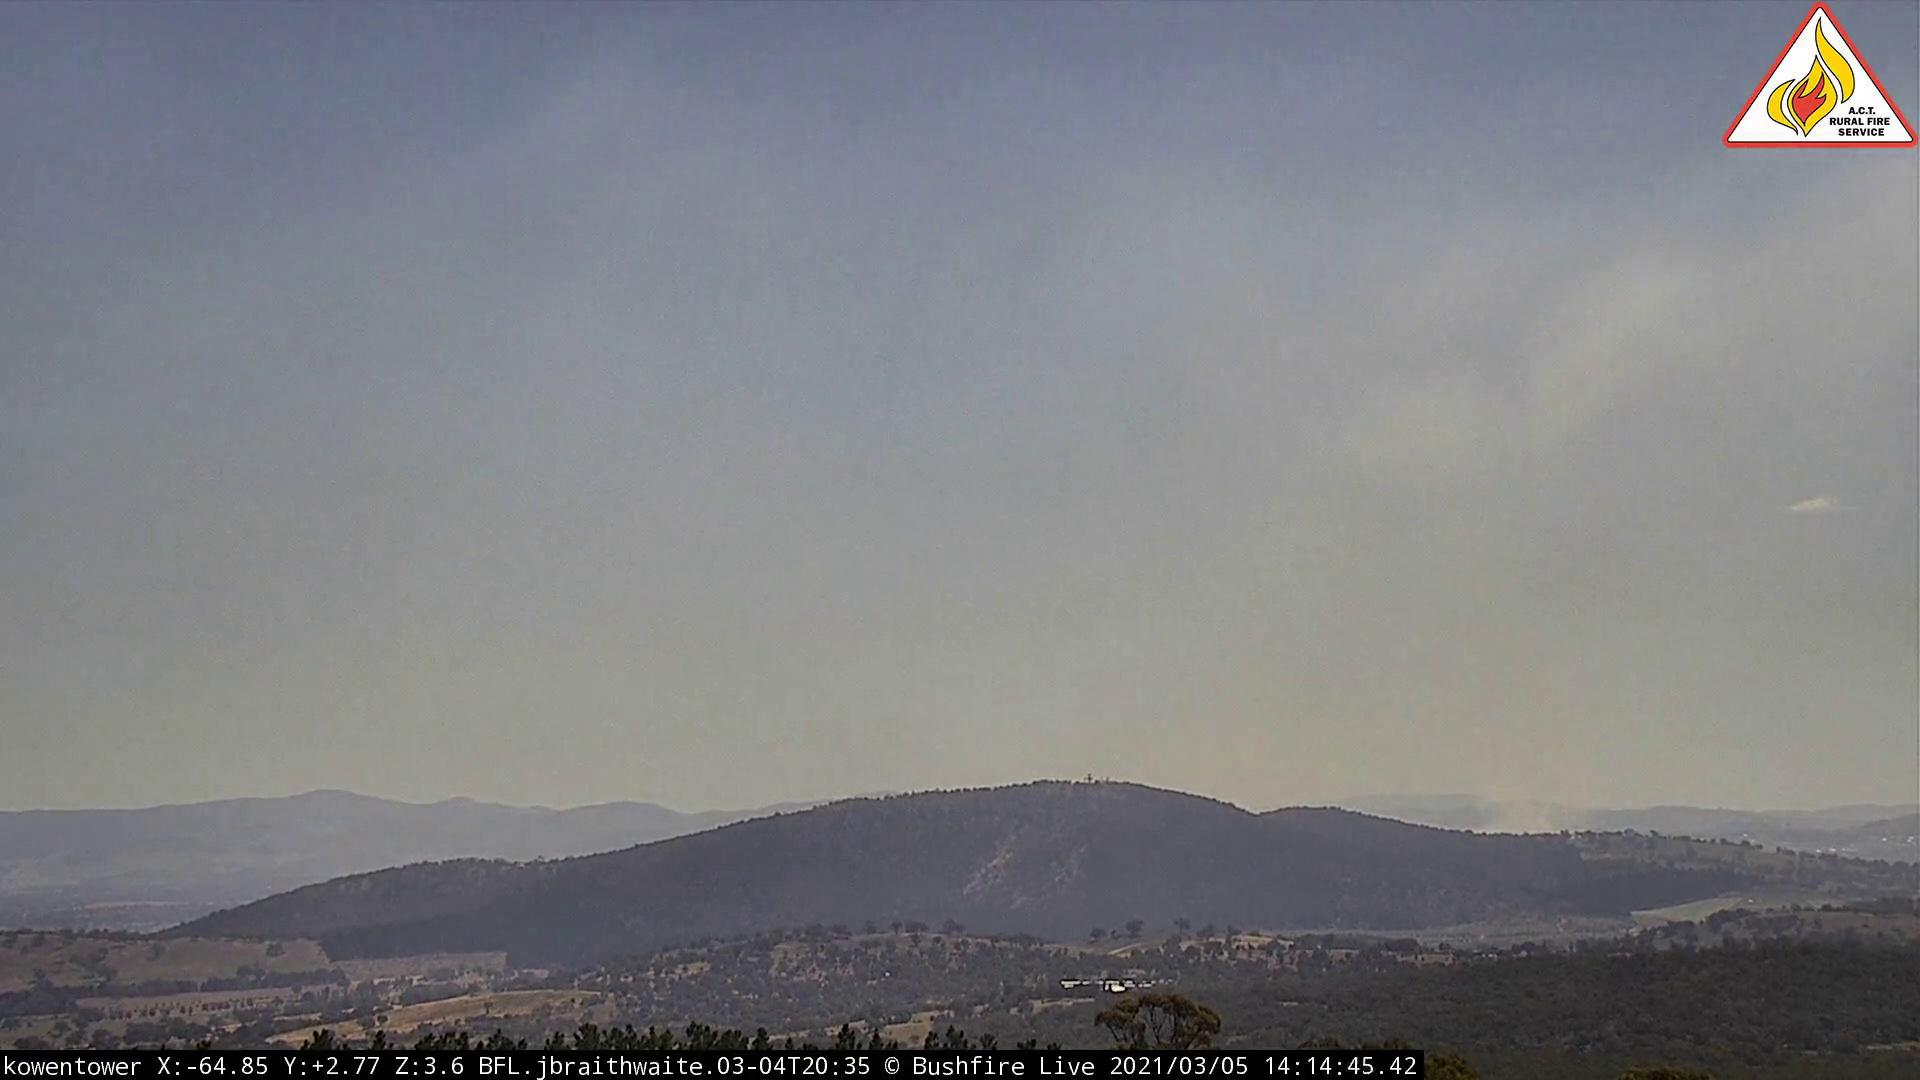Smoke: (1313, 222, 1745, 857)
